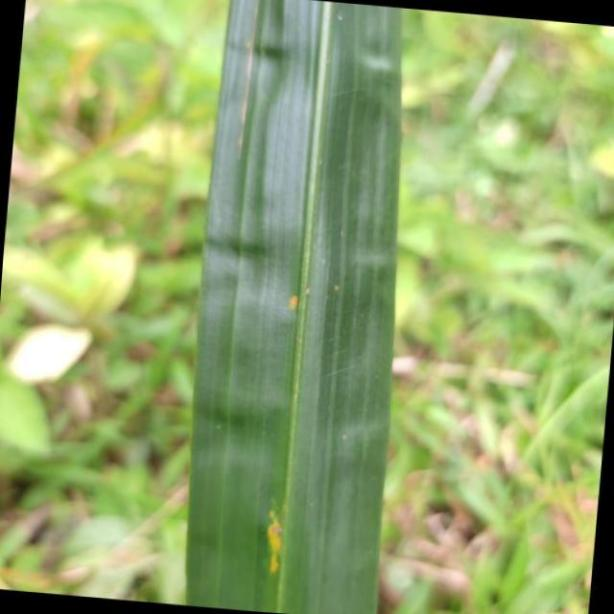Boron: (187, 0, 405, 614)
